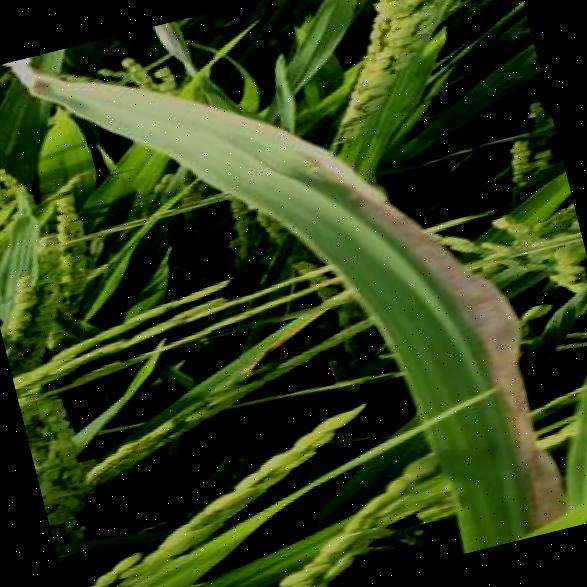Bacteria_Leaf_Blight: (328, 162, 565, 562)
